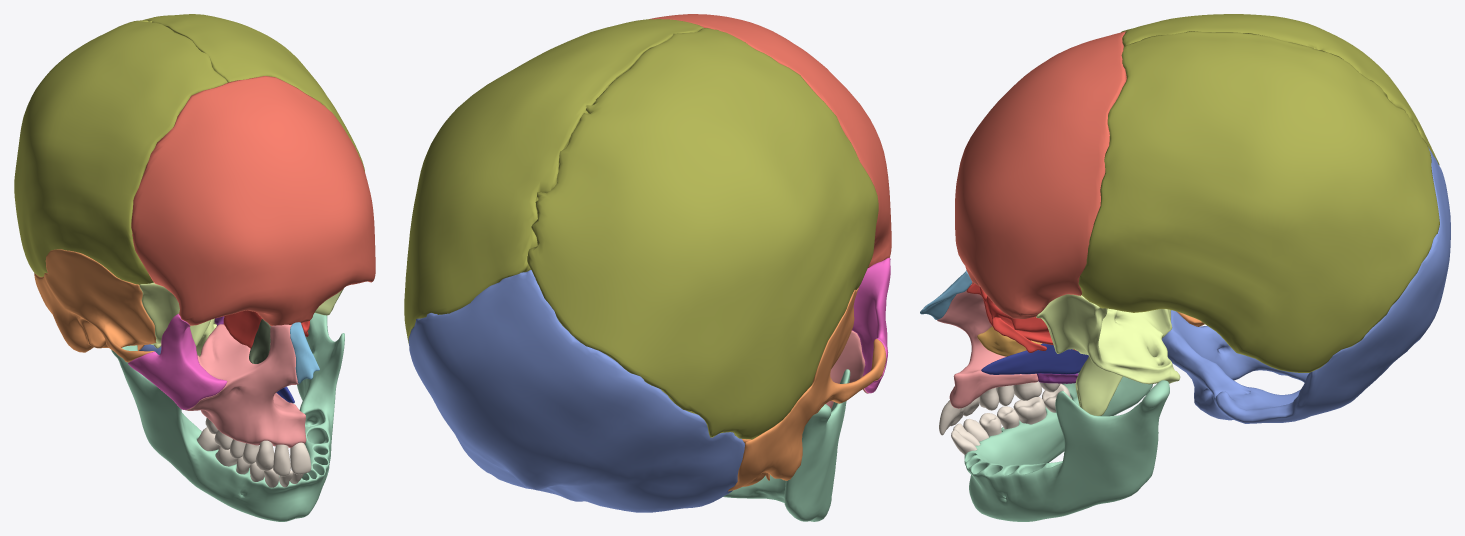
File: overview-colored-skull.glb
3 views of the same model, side by side, from view 1: azimuth 30°, elevation 25°; view 2: azimuth 150°, elevation 25°; view 3: azimuth 270°, elevation 25° (orthographic). The views are drawn at different scales.
Parts seen in each view (by area): view 1: Frontal bone, Parietal bone.r, Mandible bone, Maxilla bone.r, Temporal bone.r, Parietal bone.l, Zygomatic bone.r, Sphenoid bone, Ethmoid Bone, Nasal bone.r, Lacrimal bone.r, Upper medial incisor.r (+2 smaller); view 2: Parietal bone.r, Occipital bone, Parietal bone.l, Frontal bone, Temporal bone.r, Mandible bone, Zygomatic bone.r, Maxilla bone.r; view 3: Parietal bone.l, Frontal bone, Mandible bone, Occipital bone, Sphenoid bone, Parietal bone.r, Maxilla bone.r, Vomer, Ethmoid Bone, Nasal bone.r, Inferior nasal concha bone.r, Lower first molar tooth.r.
Boxes of the visible parts, box(x1,y1,x2,y2) form: Frontal bone: box(131, 76, 375, 325); Parietal bone.r: box(14, 20, 227, 284); Mandible bone: box(111, 313, 344, 521); Maxilla bone.r: box(185, 324, 306, 447); Temporal bone.r: box(34, 249, 156, 362); Parietal bone.l: box(143, 14, 364, 171); Zygomatic bone.r: box(128, 313, 227, 409); Sphenoid bone: box(139, 282, 343, 356); Ethmoid Bone: box(223, 310, 309, 348); Nasal bone.r: box(290, 322, 319, 383); Lacrimal bone.r: box(249, 319, 270, 363); Upper medial incisor.r: box(290, 442, 311, 474); Parietal bone.r: box(527, 28, 878, 439); Occipital bone: box(408, 269, 744, 512); Parietal bone.l: box(404, 19, 703, 343); Frontal bone: box(649, 14, 891, 267); Temporal bone.r: box(728, 287, 886, 491); Mandible bone: box(723, 369, 850, 521); Zygomatic bone.r: box(852, 258, 890, 393); Maxilla bone.r: box(826, 330, 868, 409); Parietal bone.l: box(1078, 31, 1439, 372); Frontal bone: box(955, 31, 1126, 318); Mandible bone: box(964, 373, 1169, 521); Occipital bone: box(1162, 147, 1450, 423); Sphenoid bone: box(1036, 294, 1180, 415); Parietal bone.r: box(1121, 14, 1439, 165); Maxilla bone.r: box(937, 284, 1038, 408); Vomer: box(981, 343, 1088, 374); Ethmoid Bone: box(966, 283, 1076, 352); Nasal bone.r: box(920, 270, 972, 319); Inferior nasal concha bone.r: box(977, 326, 1042, 356); Lower first molar tooth.r: box(1013, 396, 1046, 424).
Bounding box in the file's own units: 0.1485 × 0.2013 × 0.2038.
